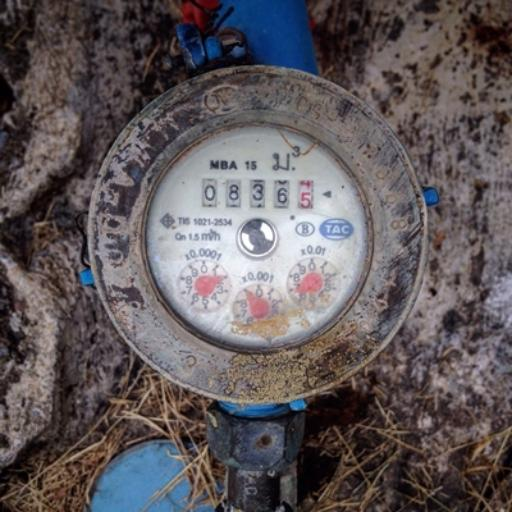0: (201, 180, 218, 211)
3: (250, 180, 267, 211)
5: (299, 180, 316, 211)
6: (274, 180, 291, 211)
8: (226, 180, 241, 211)
border_water_meter_number: (201, 180, 315, 211)
